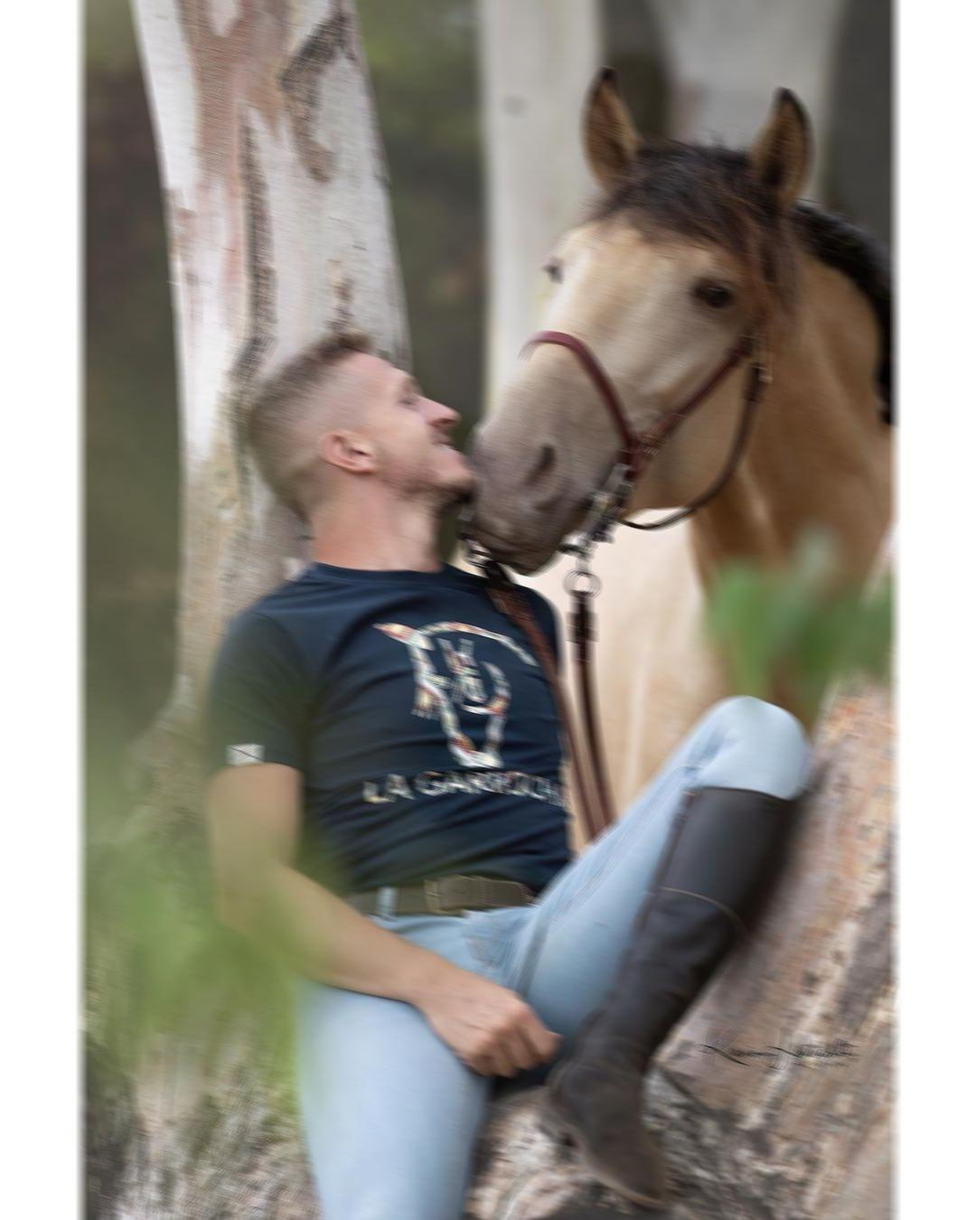horse: (458, 65, 895, 862)
